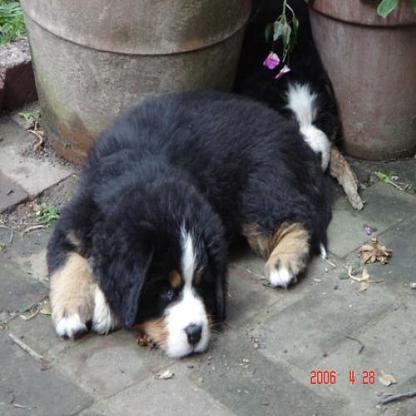Bernese_mountain_dog: (43, 79, 328, 358)
